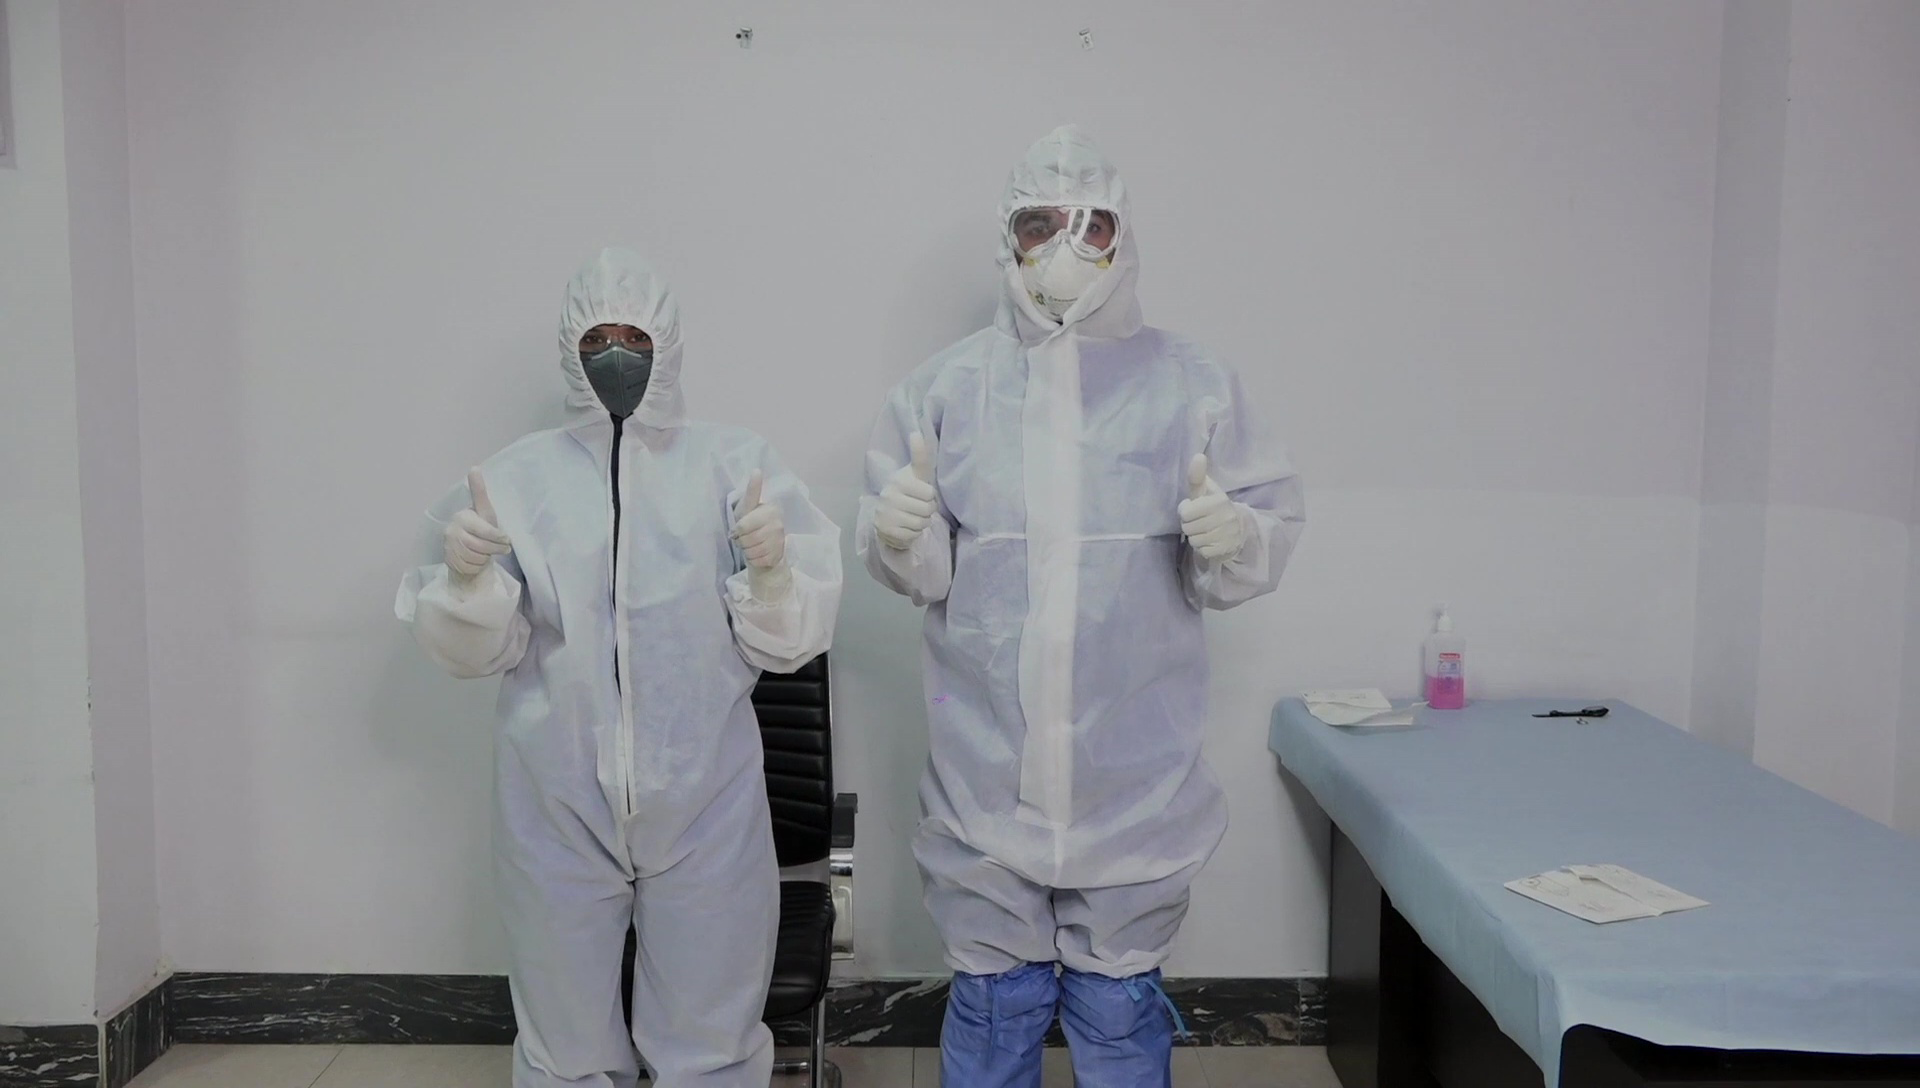Coverall: (855, 128, 1303, 1081), (392, 244, 844, 1083)
Gloves: (1174, 451, 1253, 563), (438, 464, 511, 576), (871, 431, 939, 549), (729, 467, 787, 577)
Goggles: (1014, 204, 1123, 264)
with_mask: (1021, 233, 1112, 323), (583, 342, 652, 421)
